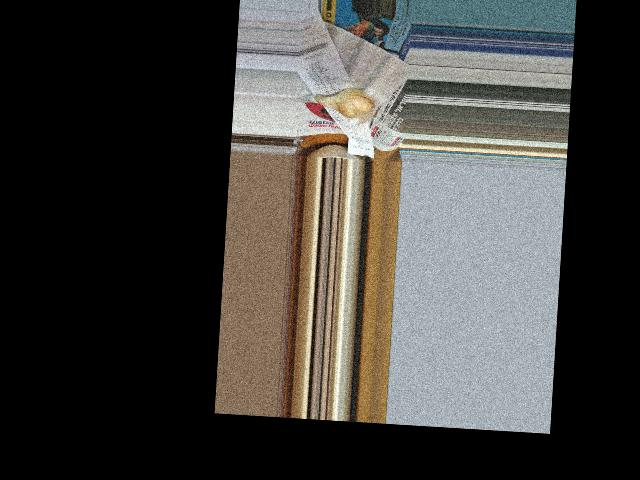onion: (318, 88, 374, 117)
